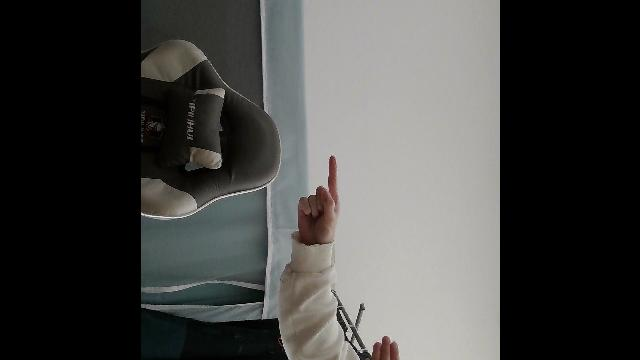one: (294, 154, 344, 248)
